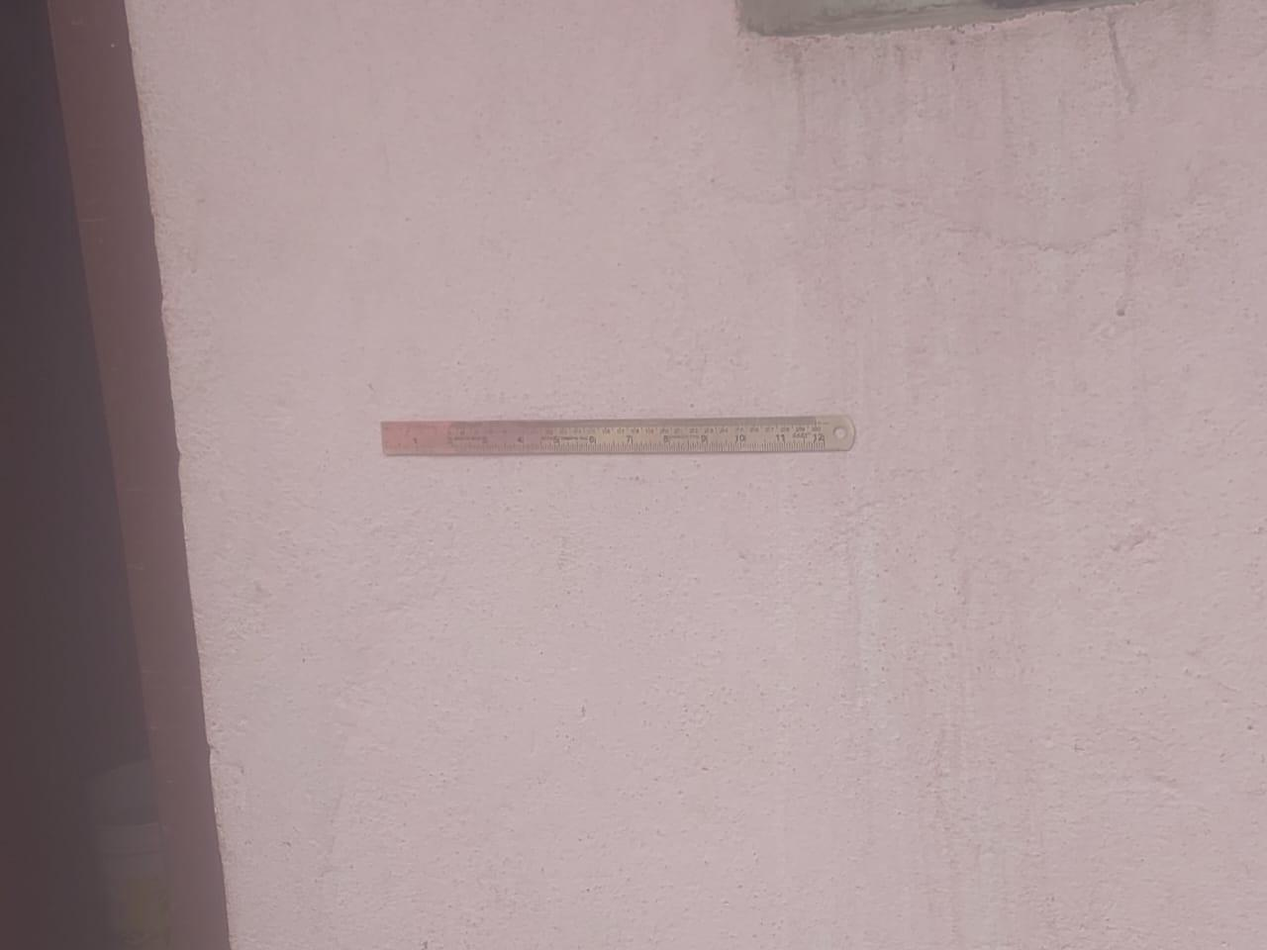scale: (378, 418, 857, 460)
